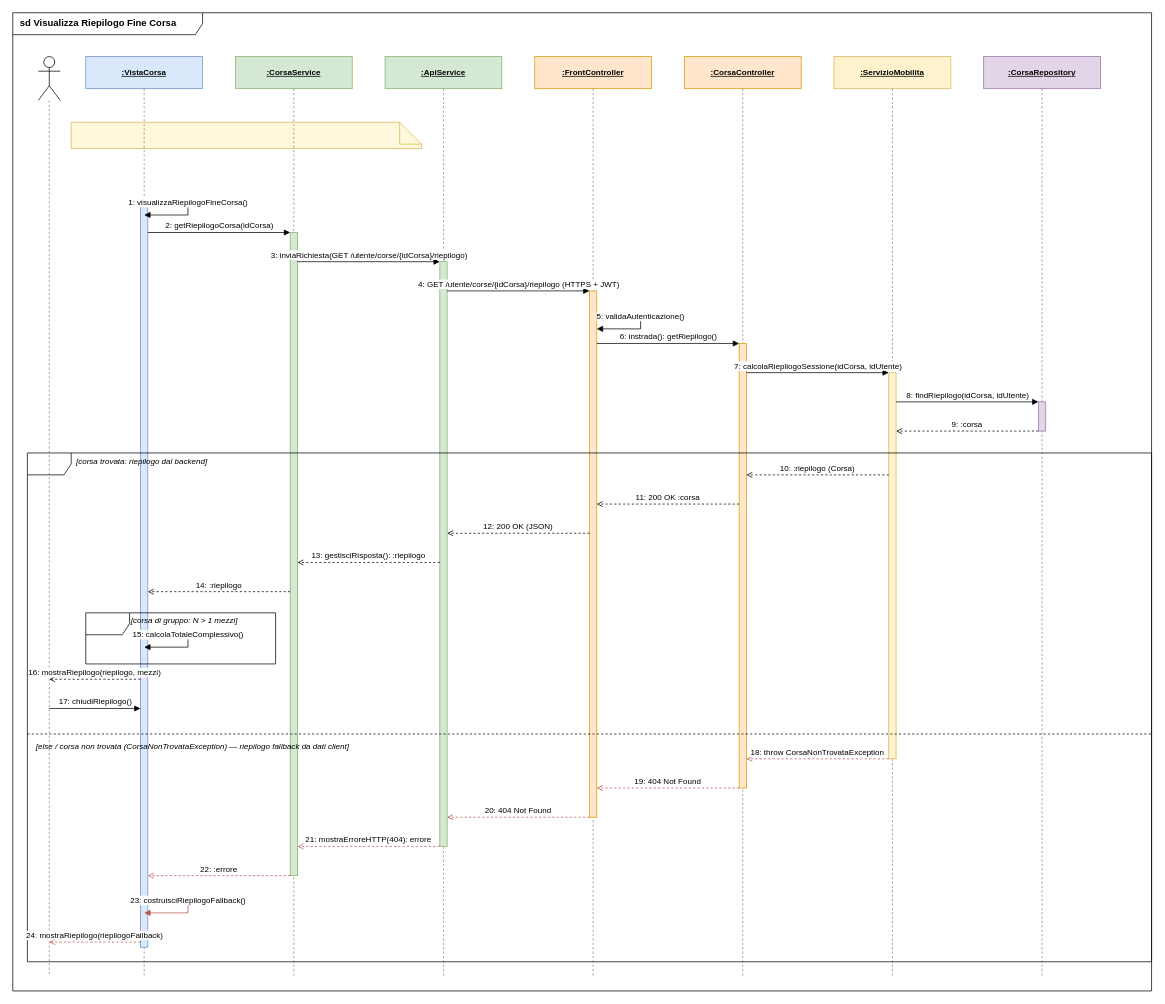
This 1165x1004 diagram has some shape labels left out. Here are the shapes that lost their labels. From the top down, the box of each, then its label:
(38, 56, 60, 100): :Utente
(70, 122, 422, 149): « incluso da UT-04 Termina Corsa — eseguito dopo EffettuaPagamento (UT-05) »
(85, 612, 276, 664): opt
(27, 452, 1152, 962): alt
